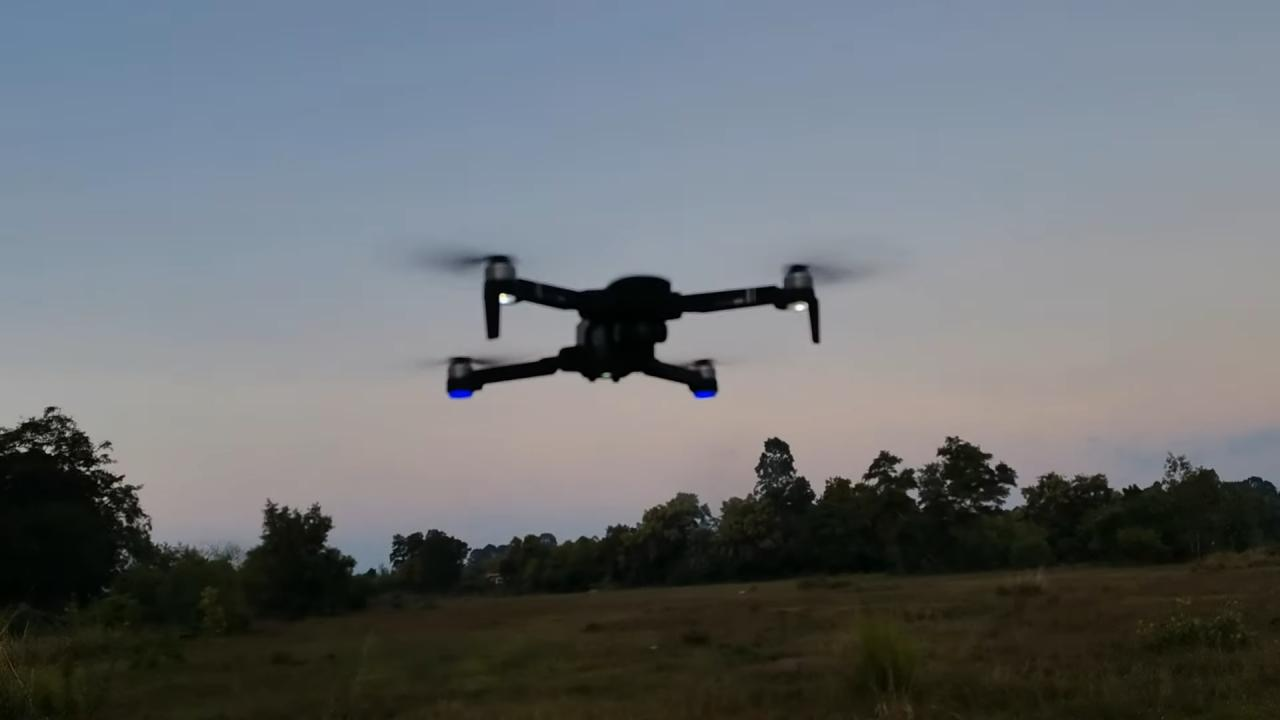Drone: (389, 230, 875, 416)
